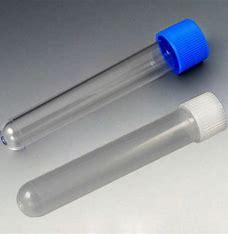Test tube: (17, 10, 223, 204)
